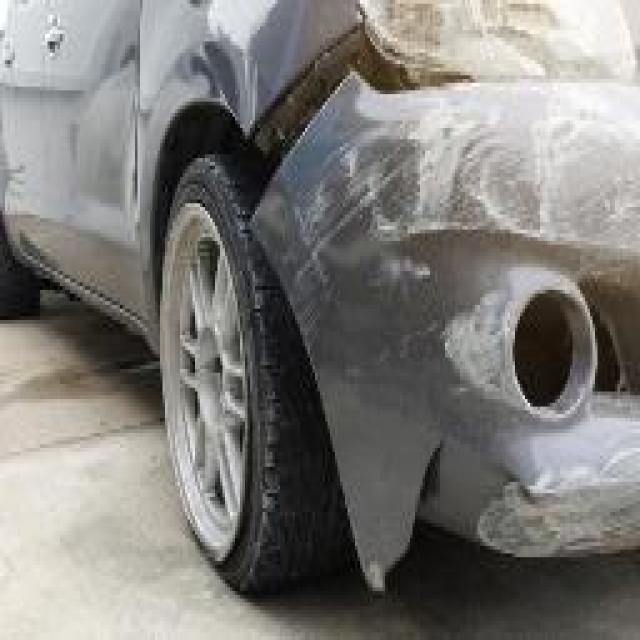Bumper: (275, 68, 640, 561)
